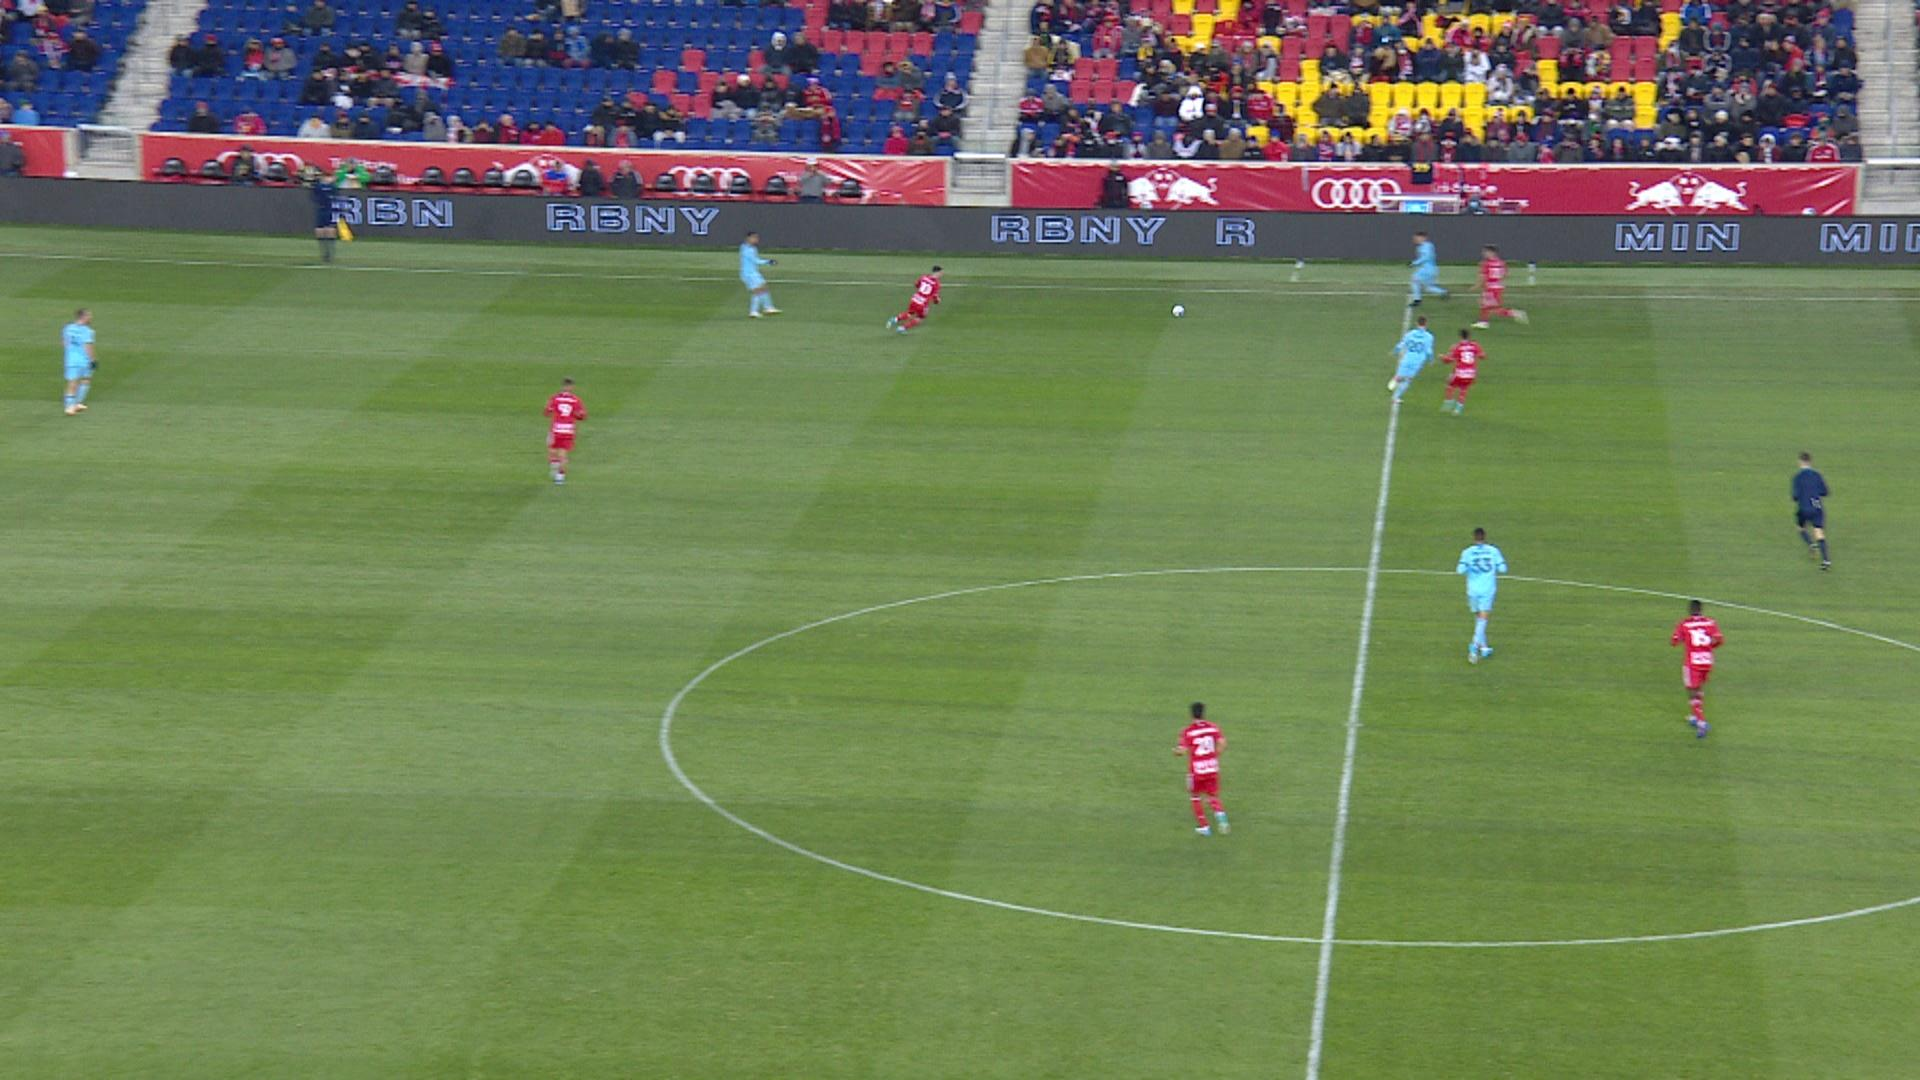football: (1170, 303, 1187, 319)
